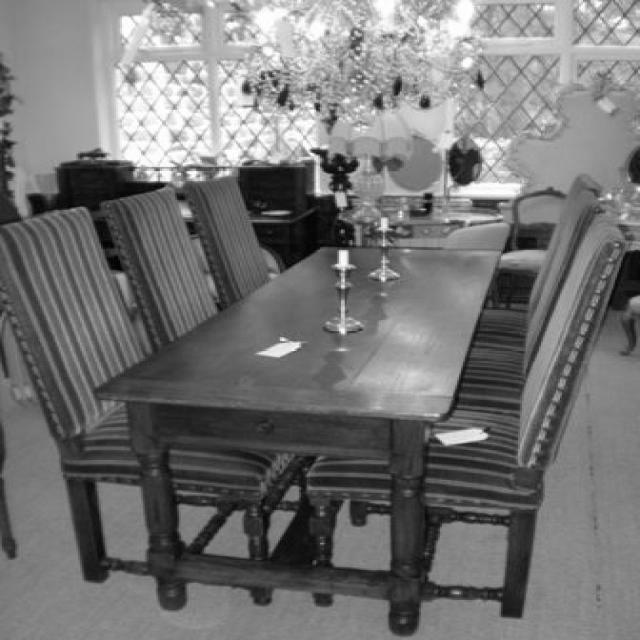chair: (305, 216, 638, 614), (3, 202, 274, 624)
table: (135, 225, 533, 624)
